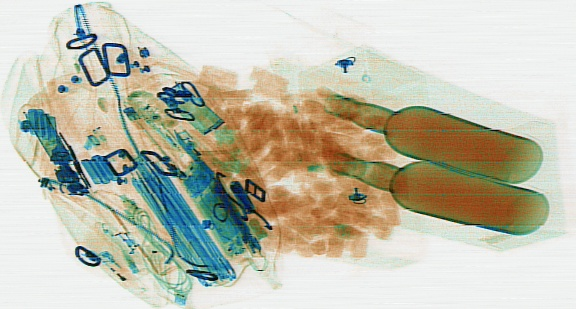lighter: (174, 128, 232, 184), (94, 248, 148, 298)
